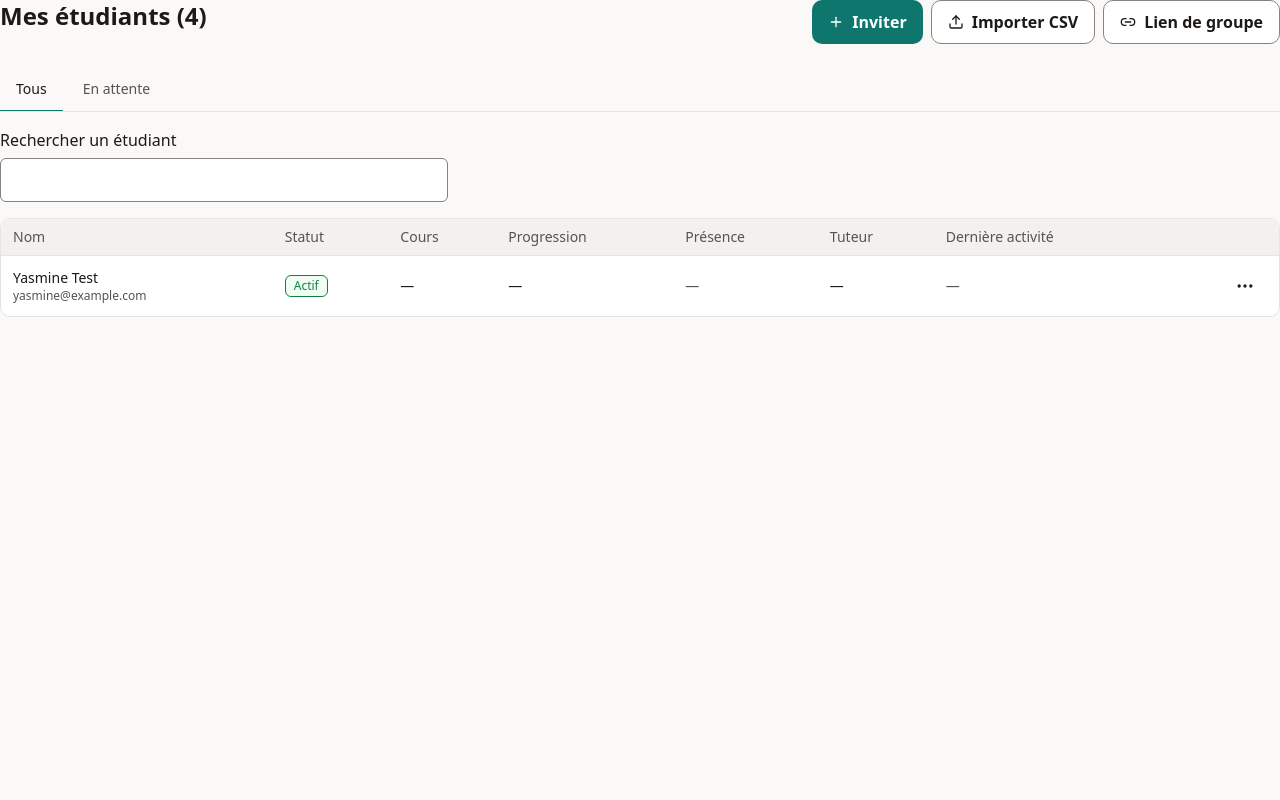
Test: StudentsPanel › Importer CSV is enabled and opens the import dialog, loaded on demand
Click the button "Importer CSV": (1013, 22) [931, 0, 1095, 44]
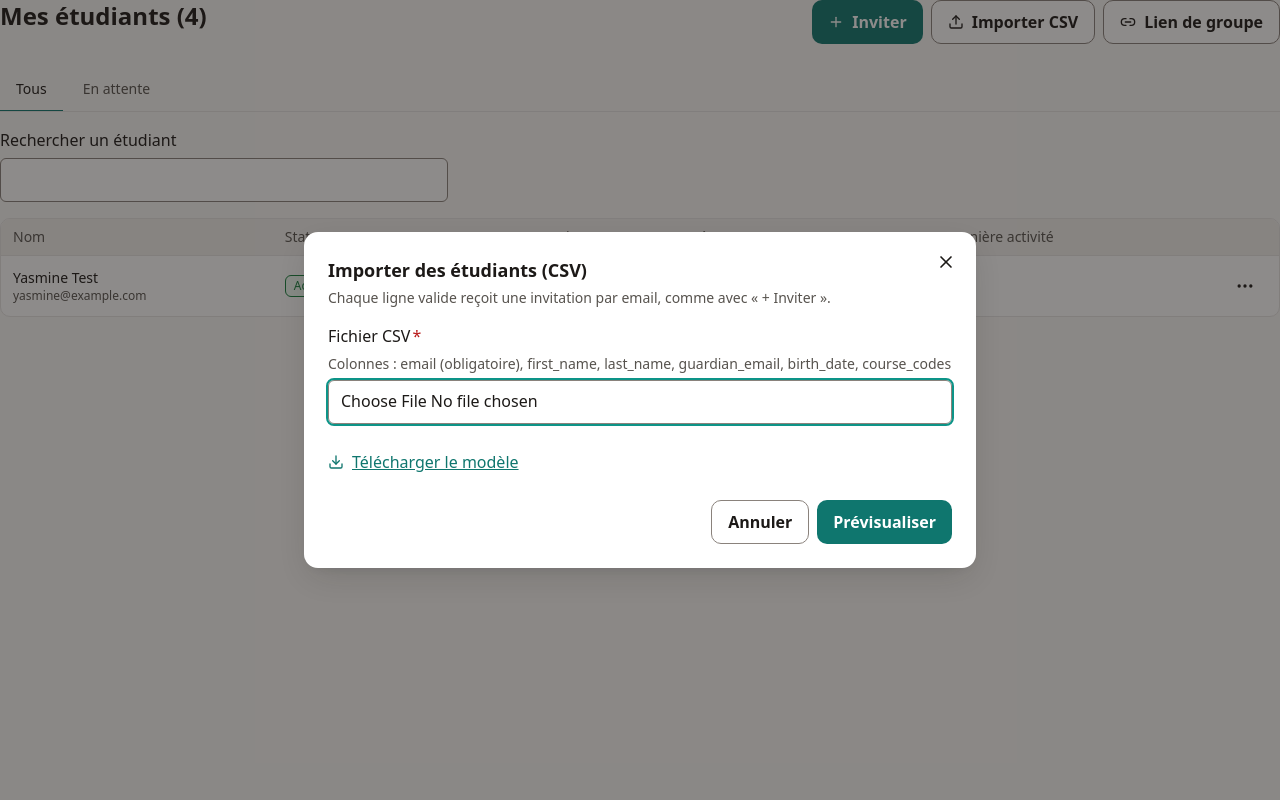
Expected: the dialog "Importer des étudiants (CSV)" is shown, [304, 232, 976, 568]
